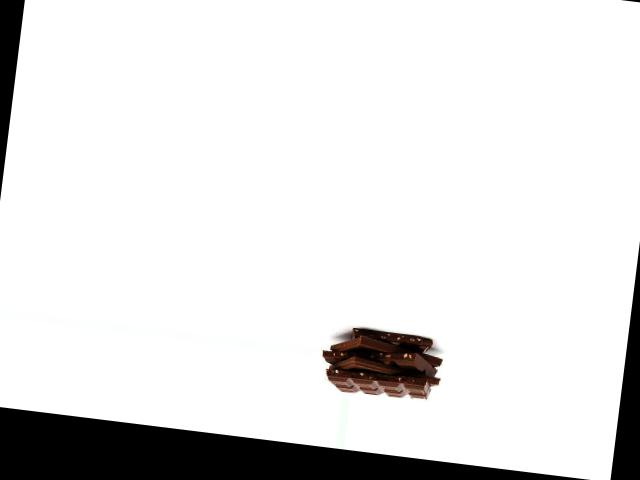chocolate: (329, 318, 443, 376)
